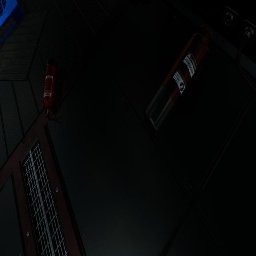FireExtinguisher ]: (43, 58, 58, 118)
NitrogenTank ,: (143, 25, 214, 139)
